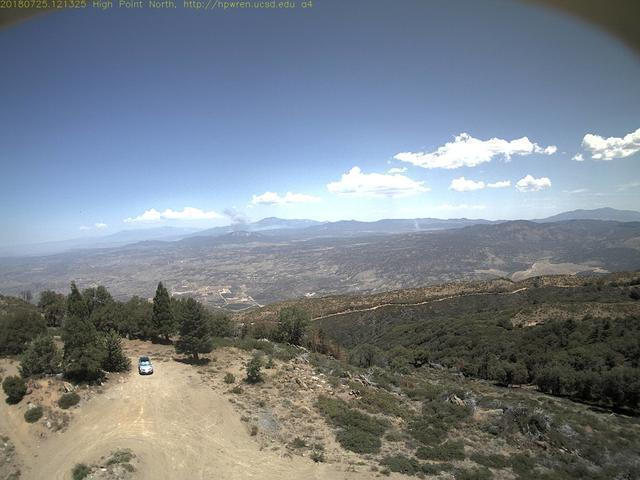Smoke: (216, 203, 253, 239)
